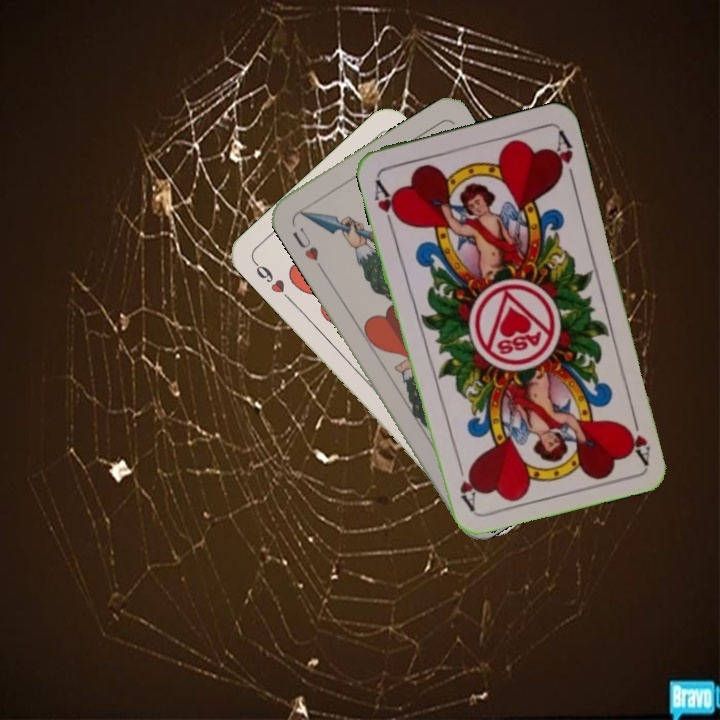H9: (249, 256, 294, 304)
HA: (620, 407, 653, 466), (370, 175, 404, 231)
HU: (288, 223, 322, 264)
